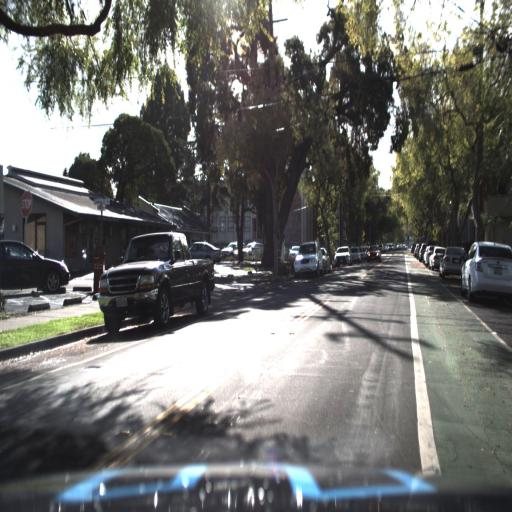car: (97, 224, 215, 335), (0, 239, 70, 304), (457, 227, 511, 309), (459, 236, 511, 309), (187, 231, 221, 269), (293, 238, 322, 277), (438, 244, 466, 282), (442, 238, 464, 280), (330, 244, 353, 270), (190, 241, 218, 261), (363, 241, 381, 271), (316, 241, 331, 273), (429, 242, 442, 276), (365, 241, 385, 262), (345, 244, 361, 267), (359, 243, 371, 269), (424, 243, 432, 271), (420, 241, 427, 264)
